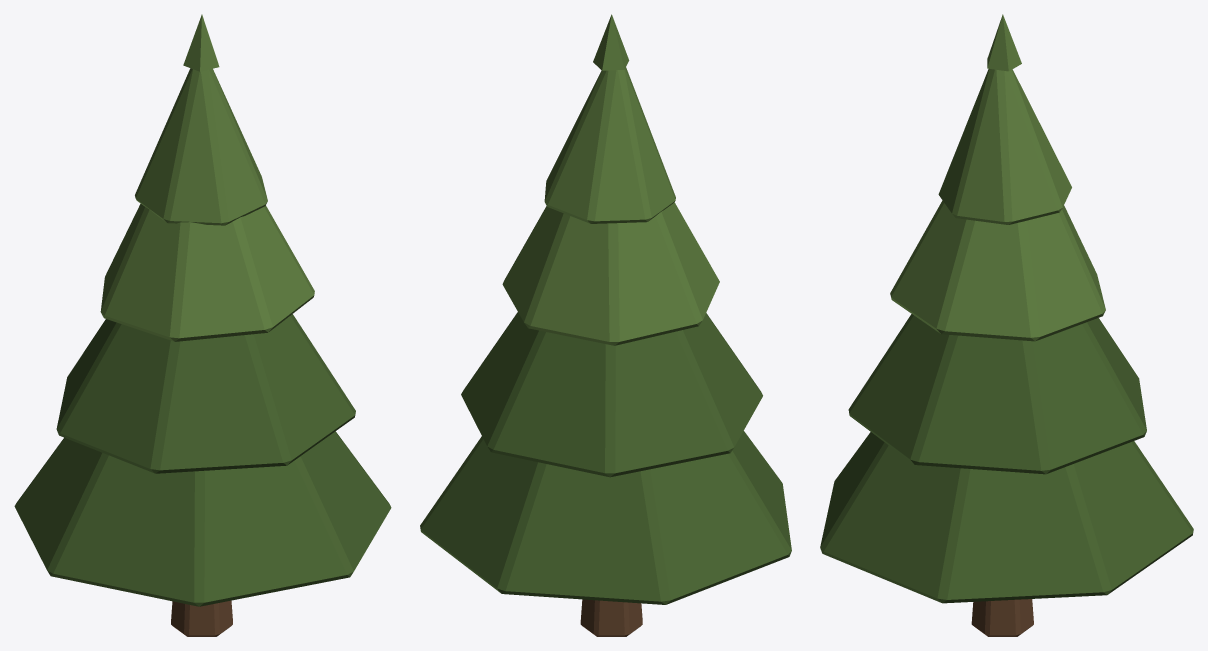
The model's file is Tree Pine.fbx.
3 renders of one model, left to right at view 1: azimuth 30°, elevation 25°; view 2: azimuth 150°, elevation 25°; view 3: azimuth 270°, elevation 25°, orthographic.
Parts seen in each view (by area): view 1: Tree Pine; view 2: Tree Pine; view 3: Tree Pine.
Part boxes in pixels (box(x1,y1,x2,y2)): Tree Pine: box(14, 14, 391, 636); Tree Pine: box(420, 14, 791, 636); Tree Pine: box(820, 14, 1193, 636).
Size of the model in its own units: 0.6837 by 1.23 by 0.6804.
